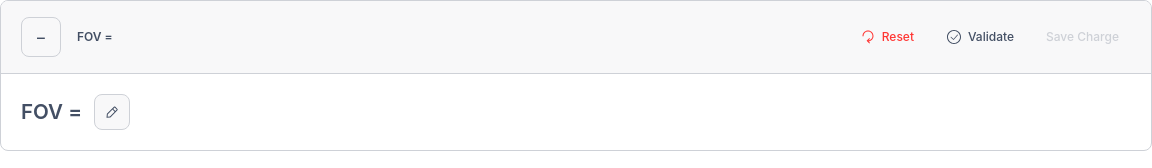
Test: FormulaBuilderBlock › collapses content when the minus button is clicked
Note: The collapse/expand button shows "−" when expanded
Click the button "−" at (41, 37), box top-left (21, 17), bottom-right (61, 57)
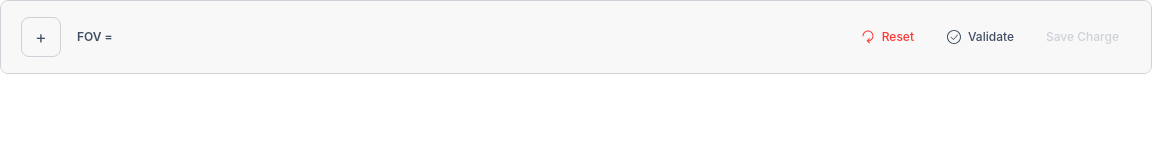
Now the text "FOV =" is shown once, box top-left (77, 29), bottom-right (113, 45)
